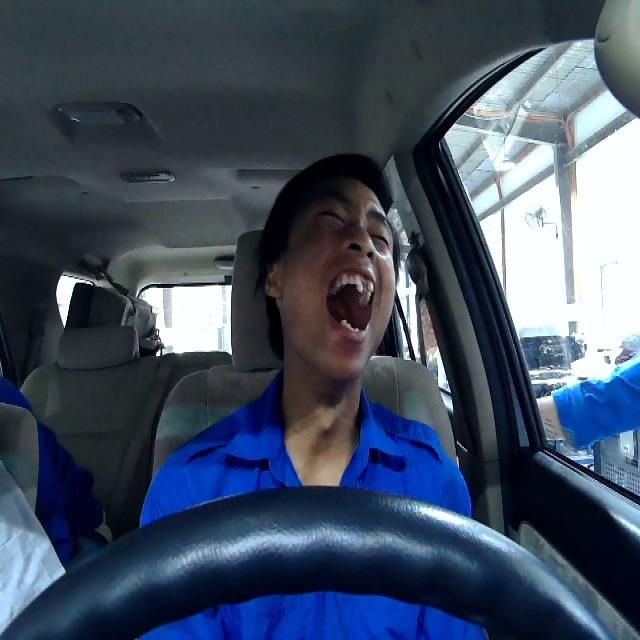yarning: (261, 176, 395, 383)
